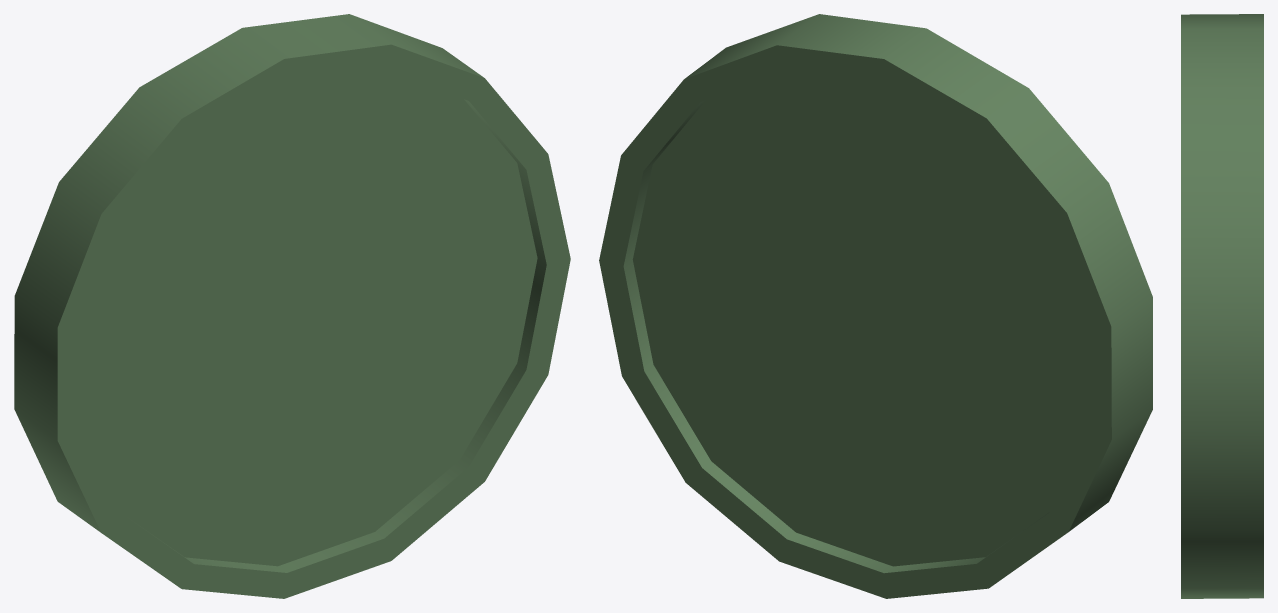
File: Moneda_De_Habilidad.fbx
The picture shows the model from 3 angles, left to right: view 1: azimuth 30°, elevation 25°; view 2: azimuth 150°, elevation 25°; view 3: azimuth 270°, elevation 25°; orthographic projection.
Visible parts, largest first — view 1: polySurface1; view 2: polySurface1; view 3: polySurface1.
Boxes of the visible parts, x1,y1,x2,y2 form: polySurface1: [14, 14, 570, 598]; polySurface1: [599, 14, 1152, 598]; polySurface1: [1181, 14, 1263, 598].
Bounding box in the file's own units: 2.79 × 2.8 × 0.3977.
